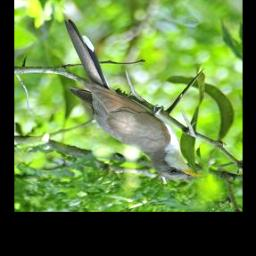Cuckoo: (63, 20, 204, 180)
